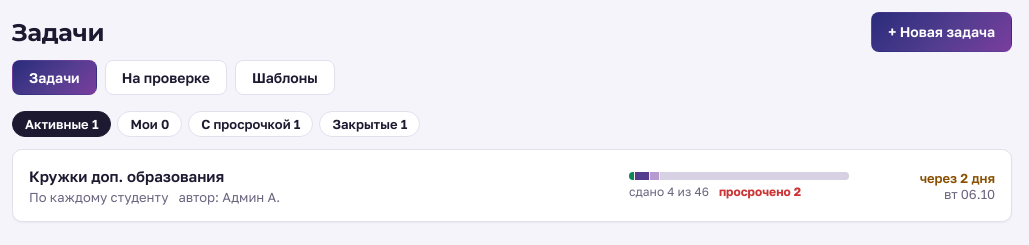
Test: TasksPage — список › задачи с полосой прогресса, просрочкой и сроком словами; закрытые — в своём фильтре
The width and height of the screenshot is (1029, 245).
expect the text "сдано 4 из 46" is shown: met, box [629,184,709,199]
expect the text "просрочено 2" is shown: met, box [719,184,801,199]
Click the button "Закрытые 1" at (370, 124), box [319,111,420,137]
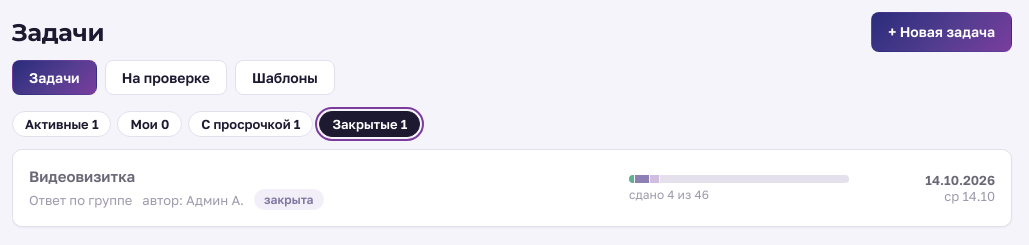
expect the text "закрыта" is shown: met, box [254,189,324,210]
expect the text "14.10.2026" is shown: met, box [925,172,995,188]
